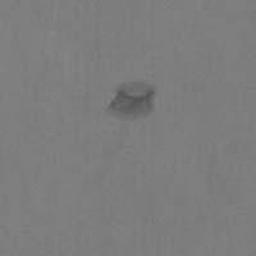Oil spot: (108, 82, 156, 119)
